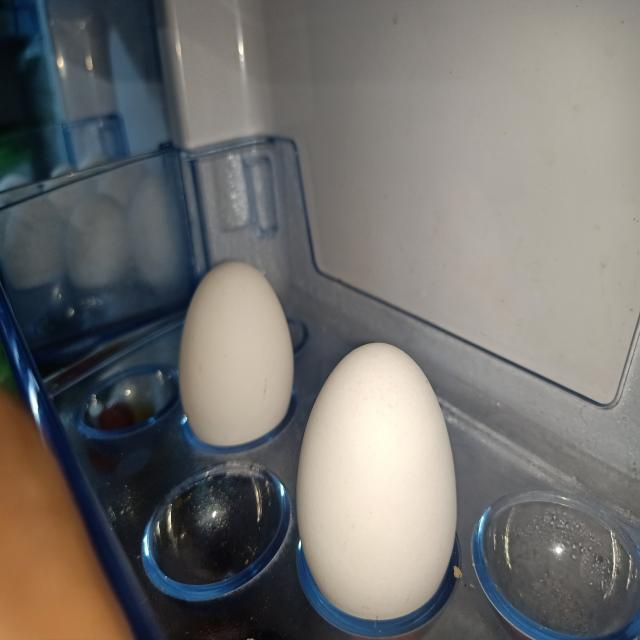Tomato: (294, 343, 459, 640), (178, 261, 295, 452)
